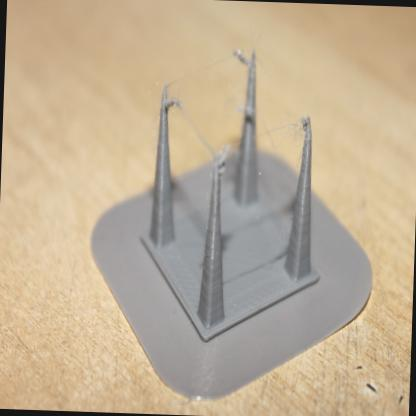fail: (166, 82, 221, 159), (271, 112, 310, 157)
